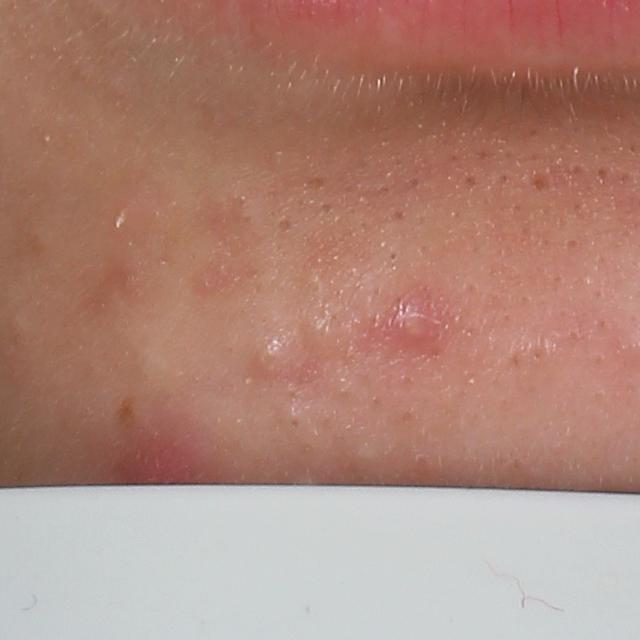comedo: (247, 337, 290, 381), (302, 310, 344, 352), (272, 214, 296, 239), (592, 164, 613, 185), (529, 168, 547, 192), (387, 245, 403, 266), (287, 415, 303, 435)
pustule: (395, 308, 442, 351)
